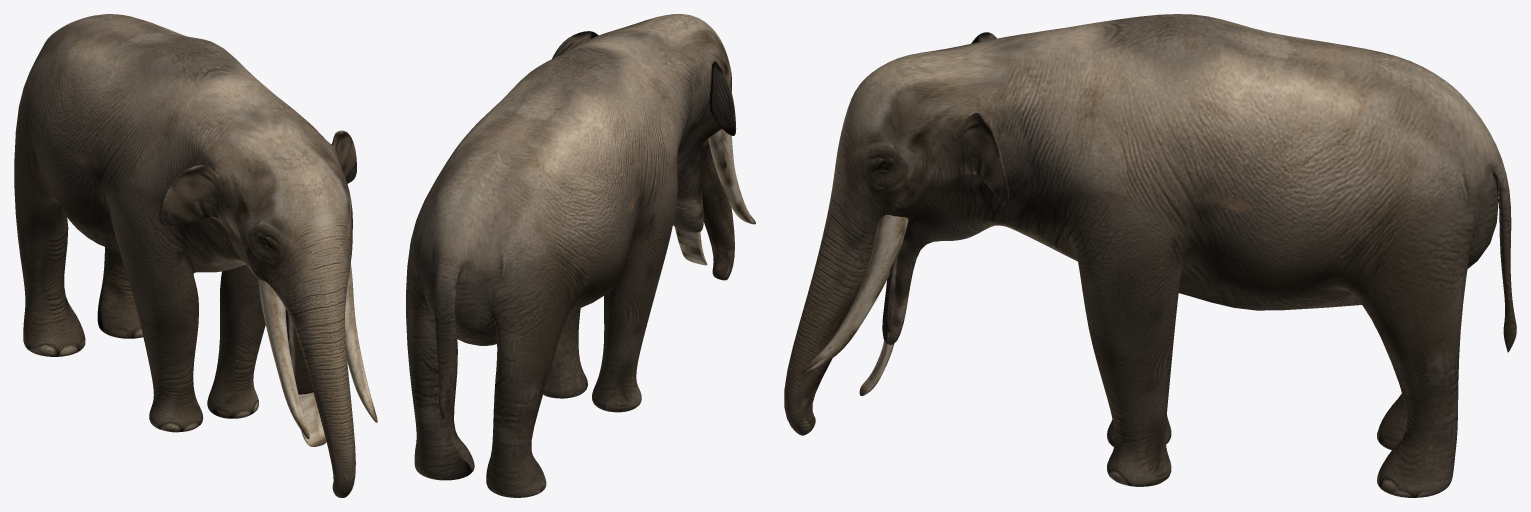
Rendered from 03 Protanancus (ช้างงาเสียมโปรตานันคัส).fbx.
The picture shows the model from 3 angles, left to right: view 1: azimuth 30°, elevation 25°; view 2: azimuth 150°, elevation 25°; view 3: azimuth 270°, elevation 25°; orthographic projection. The views are drawn at different scales.
Visible parts, largest first — view 1: Cube, Cube.001, Cube.003; view 2: Cube, Cube.001, Cube.003; view 3: Cube, Cube.001.
Boxes of the visible parts, <box> form: Cube: <box>14,14,356,497</box>; Cube.001: <box>258,262,377,439</box>; Cube.003: <box>298,392,326,446</box>; Cube: <box>406,14,736,497</box>; Cube.001: <box>708,129,755,224</box>; Cube.003: <box>675,227,707,265</box>; Cube: <box>784,14,1516,497</box>; Cube.001: <box>801,215,908,373</box>.
Size of the model in its own units: 492 by 847 by 1291.
Materials: 1 (1 with a texture image).
